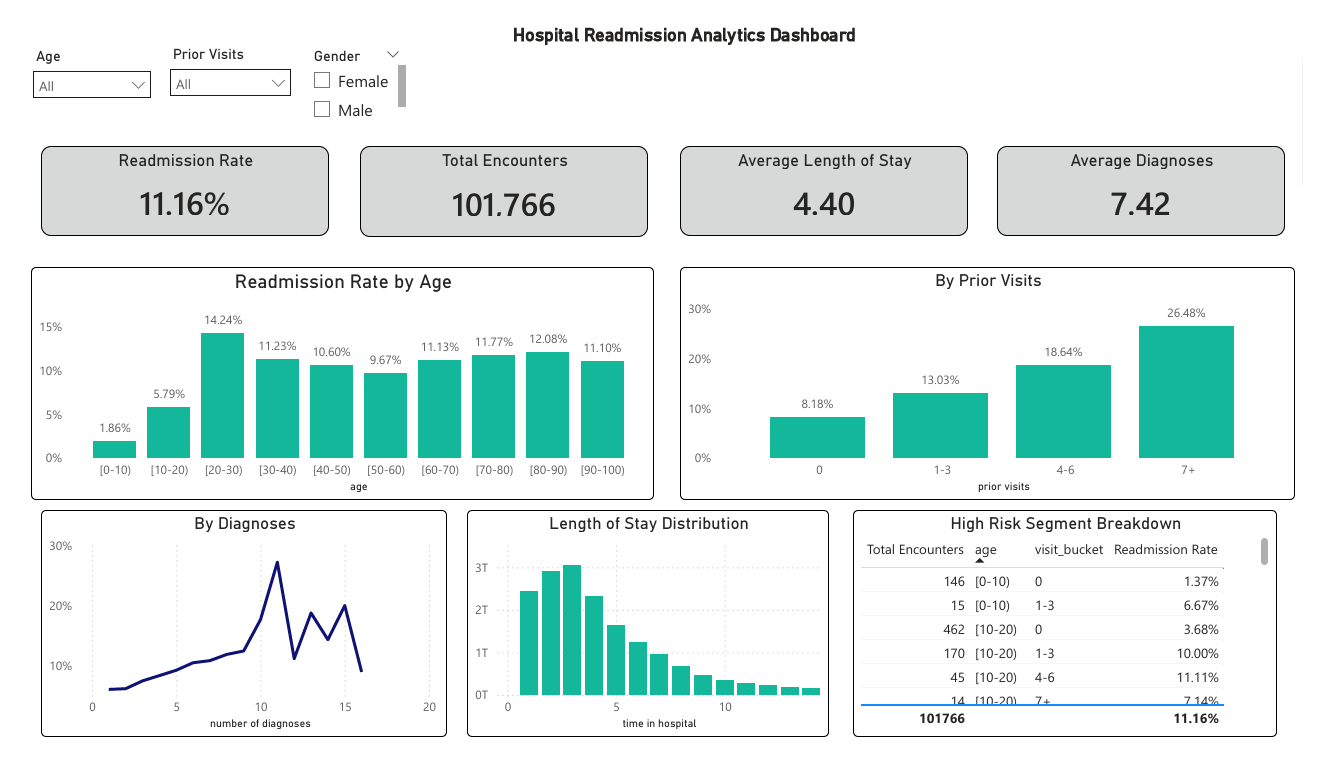

This screenshot's page, from the dashboard's own definition file:
{"tool":"powerbi","page":{"name":"Page 1","canvas":[1280,720],"ordinal":0},"visuals":[{"type":"cardVisual","title":"Readmission Rate","fields":{"Data":["readmission_dashboard_dataset.Readmission Rate"]},"box":[18.3,121.8,287.9,90.5],"z":1000},{"type":"cardVisual","title":"Total Encounters","fields":{"Data":["readmission_dashboard_dataset.Total Encounters"]},"box":[337,122.5,287.9,90.5],"z":2000},{"type":"cardVisual","title":"Average Length of Stay","fields":{"Data":["readmission_dashboard_dataset.Avg Length of Stay"]},"box":[656.6,121.7,288,90.2],"z":3000},{"type":"cardVisual","title":"Average Diagnoses","fields":{"Data":["readmission_dashboard_dataset.Avg Diagnoses"]},"box":[973.6,121.7,288,90.2],"z":4000},{"type":"clusteredColumnChart","title":"Readmission Rate by Age","fields":{"Category":["readmission_dashboard_dataset.age"],"Y":["readmission_dashboard_dataset.Readmission Rate"]},"box":[7.8,243.2,623.1,232.8],"z":5000},{"type":"clusteredColumnChart","title":"By Prior Visits","fields":{"Category":["readmission_dashboard_dataset.visit_bucket"],"Y":["readmission_dashboard_dataset.Readmission Rate"]},"box":[656.9,243.2,615.3,232.8],"z":6000},{"type":"lineChart","title":"By Diagnoses","fields":{"Category":["readmission_dashboard_dataset.number_diagnoses"],"Y":["readmission_dashboard_dataset.Readmission Rate"]},"box":[18.2,485.5,405.9,227.6],"z":7000},{"type":"columnChart","title":"Length of Stay Distribution","fields":{"Category":["readmission_dashboard_dataset.time_in_hospital"],"Y":["Sum(readmission_dashboard_dataset.encounter_id)"]},"box":[444,485.5,361.8,227.6],"z":8000},{"type":"tableEx","title":"High Risk Segment Breakdown","fields":{"Values":["readmission_dashboard_dataset.Total Encounters","readmission_dashboard_dataset.age","readmission_dashboard_dataset.visit_bucket","readmission_dashboard_dataset.Readmission Rate"]},"box":[830,485.5,424.1,227.6],"z":9000},{"type":"textbox","title":"Hospital Readmission Analytics Dashboard","box":[484.9,0,359.8,21.4],"z":10000},{"type":"slicer","title":"Age Group","fields":{"Values":["readmission_dashboard_dataset.age"]},"box":[0,19.2,137.6,81.2],"z":11000},{"type":"slicer","fields":{"Values":["readmission_dashboard_dataset.gender"]},"box":[278.2,19.5,110.9,81.7],"z":12000},{"type":"slicer","fields":{"Values":["readmission_dashboard_dataset.visit_bucket"]},"box":[137.1,16.5,141,85.6],"z":13000}]}

Visuals, with their boxes in screenshot pixels (x1, y1, x2, y2), scaled from the page's 1280x720 canvas onto the 1327x767 screenshot:
"Readmission Rate" cardVisual: bbox=[19, 130, 317, 226]
"Total Encounters" cardVisual: bbox=[349, 130, 648, 227]
"Average Length of Stay" cardVisual: bbox=[681, 130, 979, 226]
"Average Diagnoses" cardVisual: bbox=[1009, 130, 1308, 226]
"Readmission Rate by Age" clusteredColumnChart: bbox=[8, 259, 654, 507]
"By Prior Visits" clusteredColumnChart: bbox=[681, 259, 1319, 507]
"By Diagnoses" lineChart: bbox=[19, 517, 440, 760]
"Length of Stay Distribution" columnChart: bbox=[460, 517, 835, 760]
"High Risk Segment Breakdown" tableEx: bbox=[860, 517, 1300, 760]
"Hospital Readmission Analytics Dashboard" textbox: bbox=[503, 0, 876, 23]
"Age Group" slicer: bbox=[0, 20, 143, 107]
slicer - readmission_dashboard_dataset.gender: bbox=[288, 21, 403, 108]
slicer - readmission_dashboard_dataset.visit_bucket: bbox=[142, 18, 288, 109]
